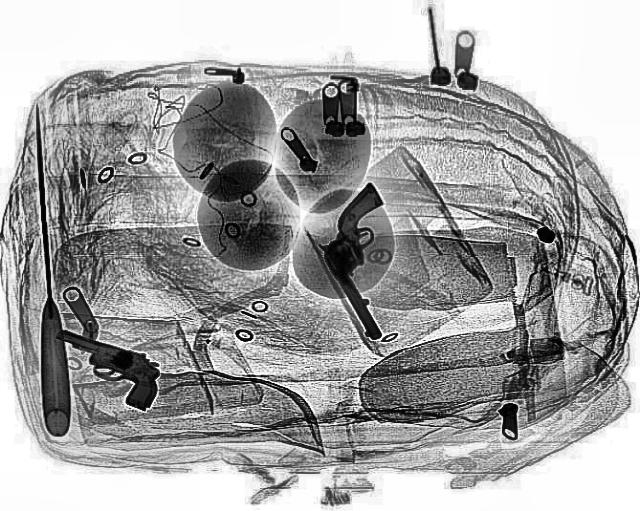Gun: (292, 181, 446, 341), (30, 327, 176, 411)
Knife: (20, 103, 74, 435)
